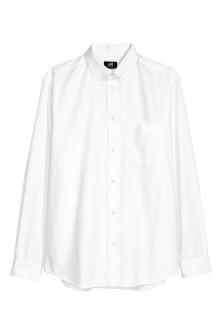teeshirt: (10, 38, 217, 294)
